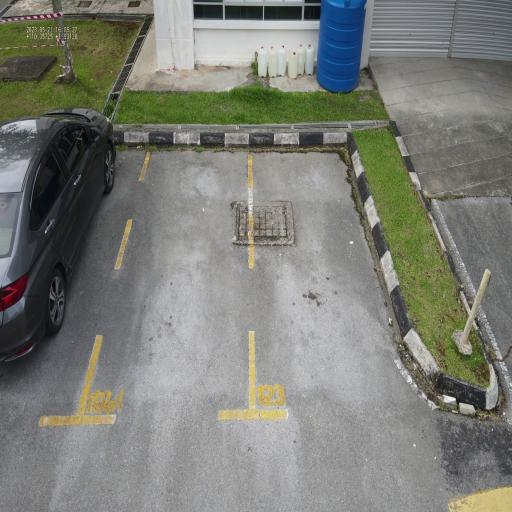Empty: (69, 135, 261, 436), (240, 137, 438, 427)
